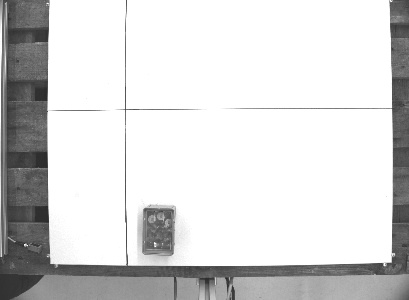kltxs: (139, 200, 177, 258)
